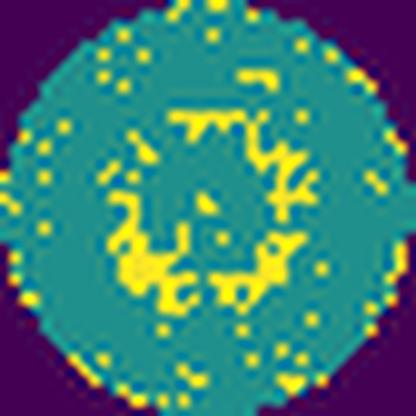Donut: (97, 100, 327, 326)
